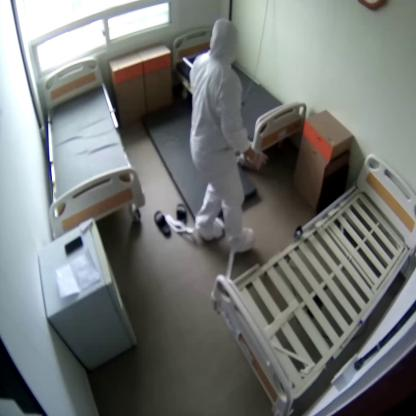Person: (188, 20, 262, 252)
